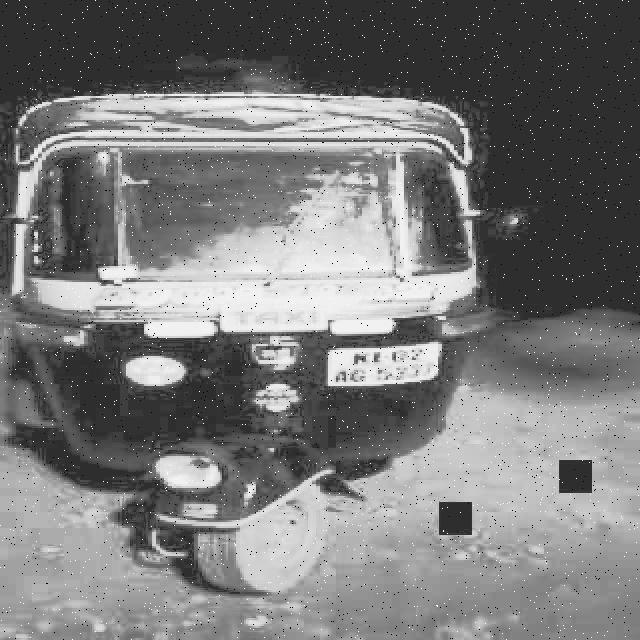Auto-Rickshaw: (4, 58, 504, 622)
